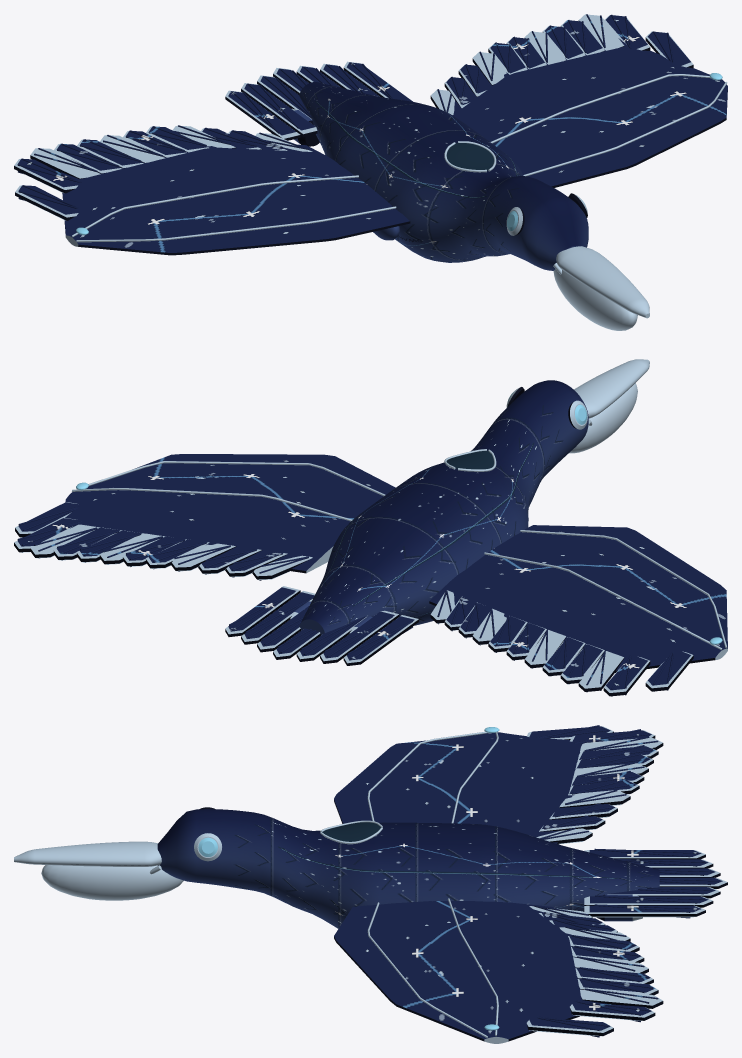
3 views of the same model, one above another, from view 1: azimuth 30°, elevation 25°; view 2: azimuth 150°, elevation 25°; view 3: azimuth 270°, elevation 25° (orthographic). The views are drawn at different scales.
Visible parts, largest first — view 1: pelican_hull; view 2: pelican_hull; view 3: pelican_hull.
Part boxes in pixels (bbox=[...]): pelican_hull: bbox=[14, 14, 727, 330]; pelican_hull: bbox=[14, 359, 727, 696]; pelican_hull: bbox=[14, 725, 727, 1043].
Bounding box in the file's own units: 256 × 48.55 × 252.
1 material, 1 textured.
